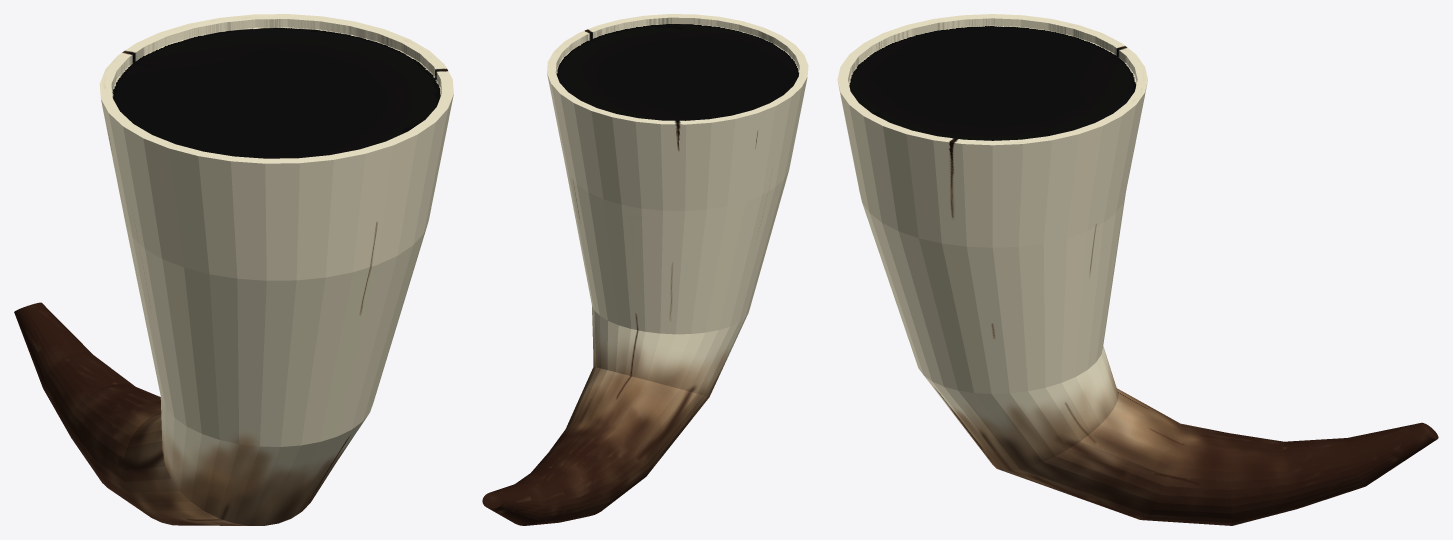
File: drinking horn.fbx
3 views of the same model, side by side, from view 1: azimuth 30°, elevation 25°; view 2: azimuth 150°, elevation 25°; view 3: azimuth 270°, elevation 25° (orthographic). The views are drawn at different scales.
Visible parts, largest first — view 1: Cylinder; view 2: Cylinder; view 3: Cylinder.
Boxes of the visible parts, x1,y1,x2,y2 form: Cylinder: (14,14,453,525); Cylinder: (482,14,808,525); Cylinder: (837,14,1438,525).
Bounding box in the file's own units: 143 × 225 × 278.
